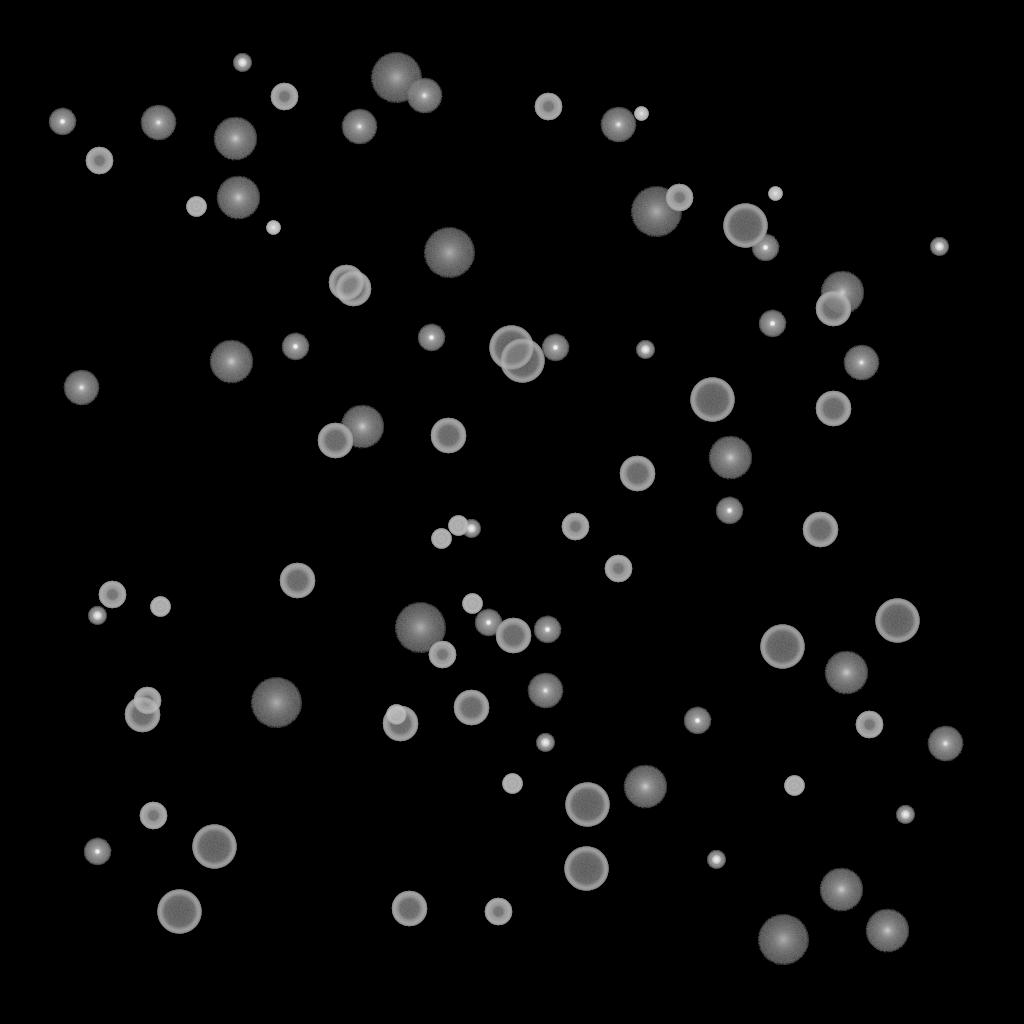depth:-10: (417, 324, 445, 352), (758, 310, 786, 338), (715, 497, 743, 525), (48, 108, 76, 136), (533, 616, 561, 644), (474, 609, 502, 637), (541, 334, 569, 362), (751, 234, 779, 262), (281, 333, 309, 361), (683, 707, 711, 735), (83, 838, 111, 866)
depth:-20: (462, 520, 480, 538), (88, 607, 106, 625), (536, 734, 554, 752), (636, 341, 654, 359), (707, 851, 725, 869), (896, 806, 914, 824), (930, 238, 948, 256), (233, 54, 251, 72)
depth:-30: (634, 107, 648, 121), (266, 221, 280, 235), (768, 187, 782, 201)
depth:-40: (431, 529, 451, 549), (186, 197, 206, 217), (150, 597, 170, 617), (462, 594, 482, 614), (448, 516, 468, 536), (386, 705, 406, 725), (784, 776, 804, 796), (502, 774, 522, 794)
depth:-50: (98, 581, 126, 609), (665, 184, 693, 212), (139, 802, 167, 830), (534, 93, 562, 121), (428, 641, 456, 669), (855, 711, 883, 739), (85, 147, 113, 175), (270, 83, 298, 111), (133, 687, 161, 715), (561, 513, 589, 541), (484, 898, 512, 926), (604, 555, 632, 583)
depth:-60: (619, 456, 655, 492), (453, 690, 489, 726), (815, 291, 851, 327), (328, 265, 364, 301), (317, 423, 353, 459), (382, 706, 418, 742), (279, 563, 315, 599), (802, 512, 838, 548), (335, 271, 371, 307), (495, 618, 531, 654), (391, 891, 427, 927), (124, 697, 160, 733), (430, 418, 466, 454), (815, 391, 851, 427)
depth:-70: (875, 599, 919, 643), (500, 339, 544, 383), (489, 326, 533, 370), (564, 847, 608, 891), (565, 783, 609, 827), (192, 825, 236, 869), (723, 204, 767, 248), (690, 378, 734, 422), (760, 625, 804, 669), (157, 890, 201, 934)
depth:0: (140, 105, 176, 141), (927, 726, 963, 762), (63, 370, 99, 406), (527, 673, 563, 709), (406, 78, 442, 114), (341, 109, 377, 145), (600, 107, 636, 143), (843, 345, 879, 381)
depth:10: (708, 436, 752, 480), (819, 868, 863, 912), (623, 765, 667, 809), (865, 909, 909, 953), (820, 271, 864, 315), (340, 405, 384, 449), (824, 651, 868, 695), (216, 176, 260, 220), (209, 340, 253, 384), (213, 117, 257, 161)
depth:20: (757, 915, 809, 965), (630, 187, 682, 237), (394, 603, 446, 653), (370, 53, 422, 103), (423, 228, 475, 278), (250, 678, 302, 728)
